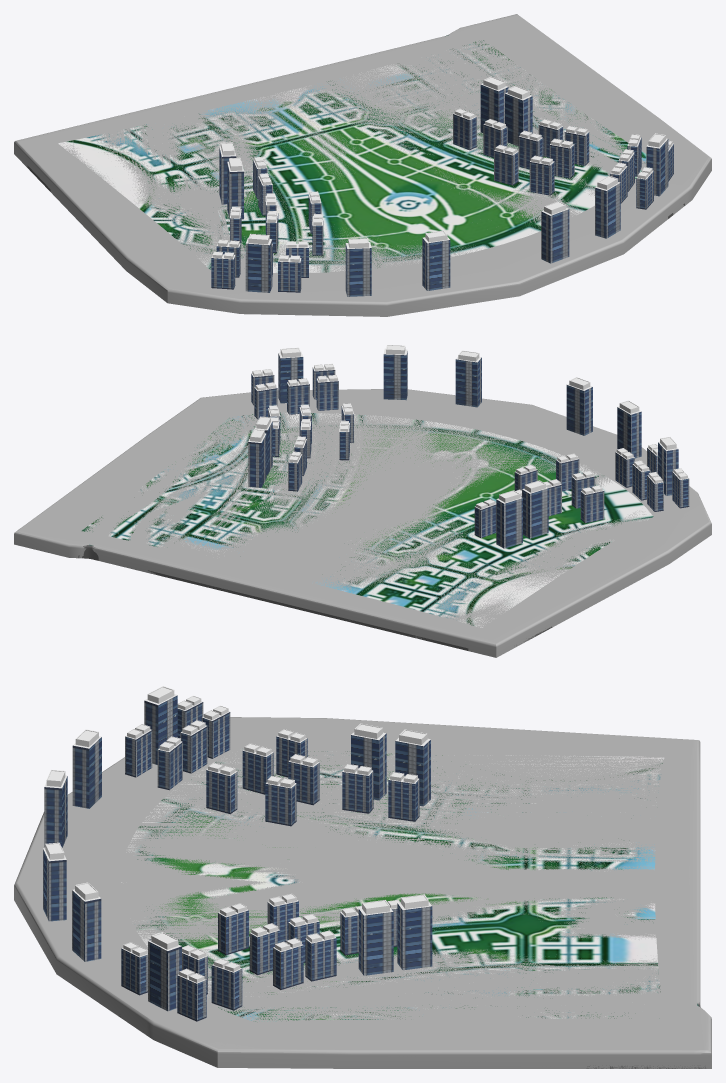
Rendered from downtown.glb.
3 views of the same model, one above another, from view 1: azimuth 30°, elevation 25°; view 2: azimuth 150°, elevation 25°; view 3: azimuth 270°, elevation 25° (orthographic). The views are drawn at different scales.
Bounding box in the file's own units: 5.66 × 0.6559 × 4.97.
5 materials, 2 textured.
